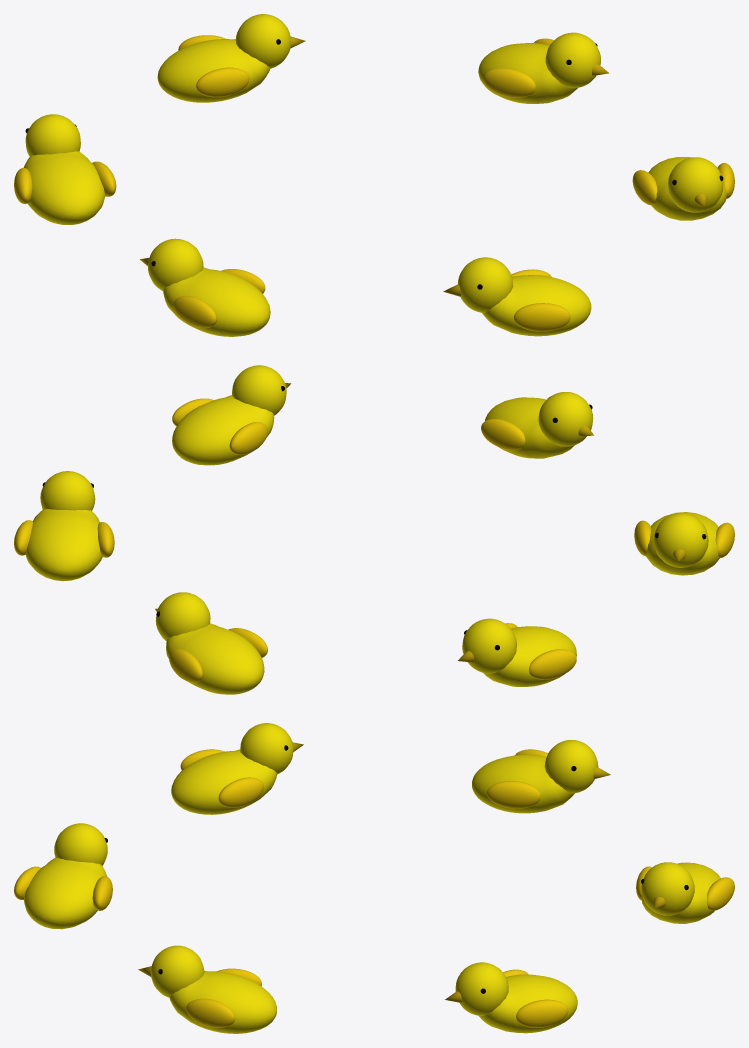
The model's file is kizetu.fbx.
The picture shows the model from 3 angles, top to bottom: view 1: azimuth 30°, elevation 25°; view 2: azimuth 150°, elevation 25°; view 3: azimuth 270°, elevation 25°; orthographic projection. The views are drawn at different scales.
Visible parts, largest first — view 1: pSphere10; view 2: pSphere10; view 3: pSphere10.
Boxes of the visible parts, <box> form: pSphere10: <box>14,14,734,336</box>; pSphere10: <box>14,365,734,694</box>; pSphere10: <box>14,723,734,1033</box>.
Size of the model in its own units: 8.78 by 1.14 by 10.2.
